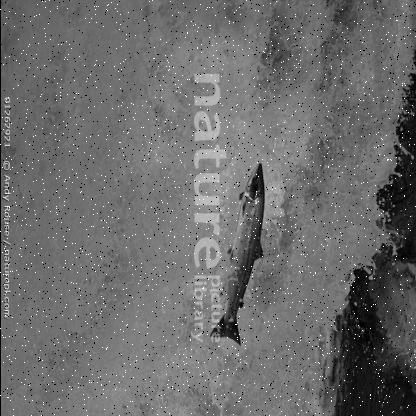fish: (208, 162, 267, 344)
